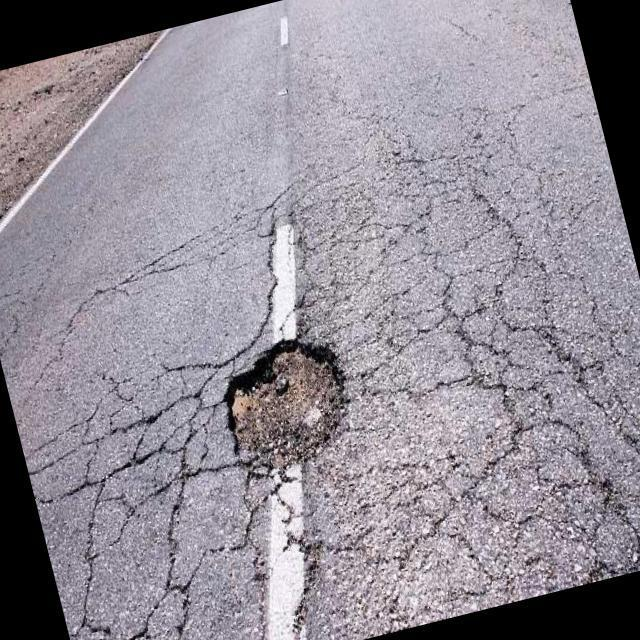Pothole: (225, 342, 347, 484)
